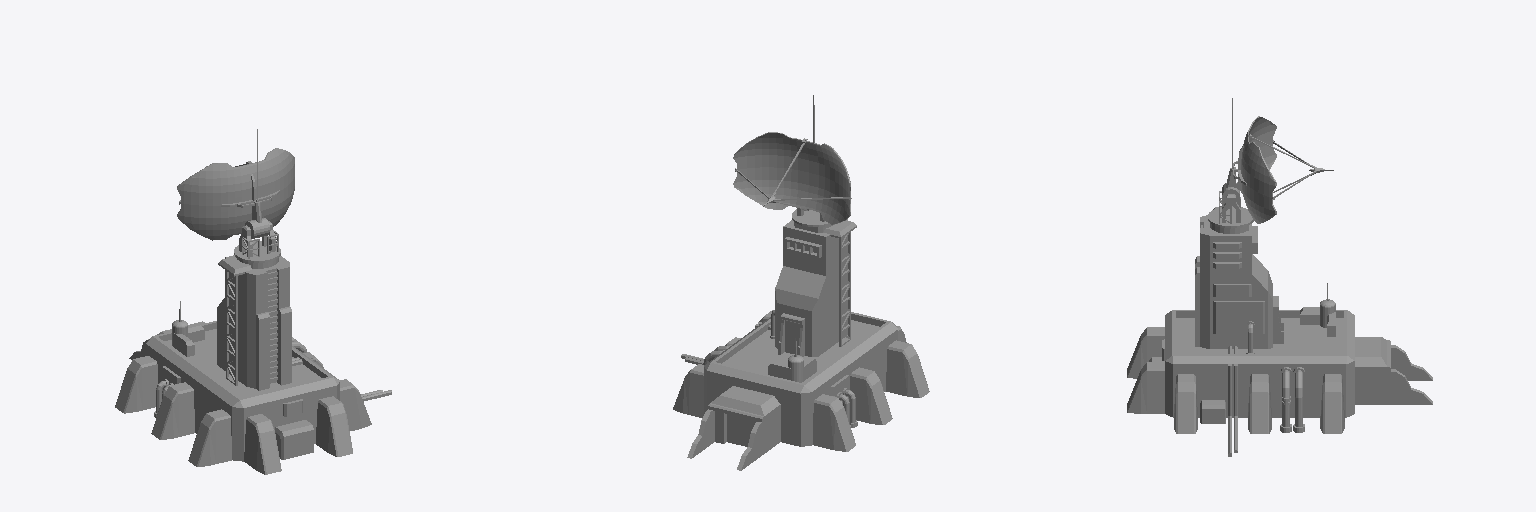
Rendered from Radar_.obj.
The picture shows the model from 3 angles: view 1: azimuth 30°, elevation 25°; view 2: azimuth 150°, elevation 25°; view 3: azimuth 270°, elevation 25°; orthographic projection.
Parts seen in each view (by area): view 1: Radar_building__Cube.027, Radar_)))_radar_Cylinder.002, Engine_=__radar_Cylinder.008; view 2: Radar_building__Cube.027, Radar_)))_radar_Cylinder.002; view 3: Radar_building__Cube.027, Radar_)))_radar_Cylinder.002, Engine_=__radar_Cylinder.008.
Boxes of the visible parts, box(x1,y1,x2,y2) form: Radar_building__Cube.027: box(115, 255, 391, 474); Radar_)))_radar_Cylinder.002: box(177, 129, 294, 240); Engine_=__radar_Cylinder.008: box(234, 221, 280, 262); Radar_building__Cube.027: box(673, 219, 929, 470); Radar_)))_radar_Cylinder.002: box(733, 95, 851, 224); Radar_building__Cube.027: box(1127, 207, 1432, 456); Radar_)))_radar_Cylinder.002: box(1222, 98, 1333, 223); Engine_=__radar_Cylinder.008: box(1208, 191, 1253, 228).
Bounding box in the file's own units: 4.09 × 5.28 × 4.92.